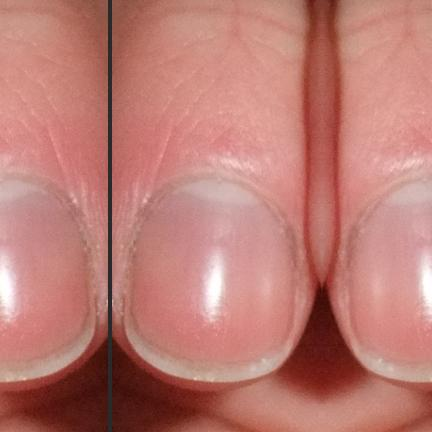Nail: (124, 180, 297, 381), (0, 180, 94, 381), (346, 180, 432, 381)
